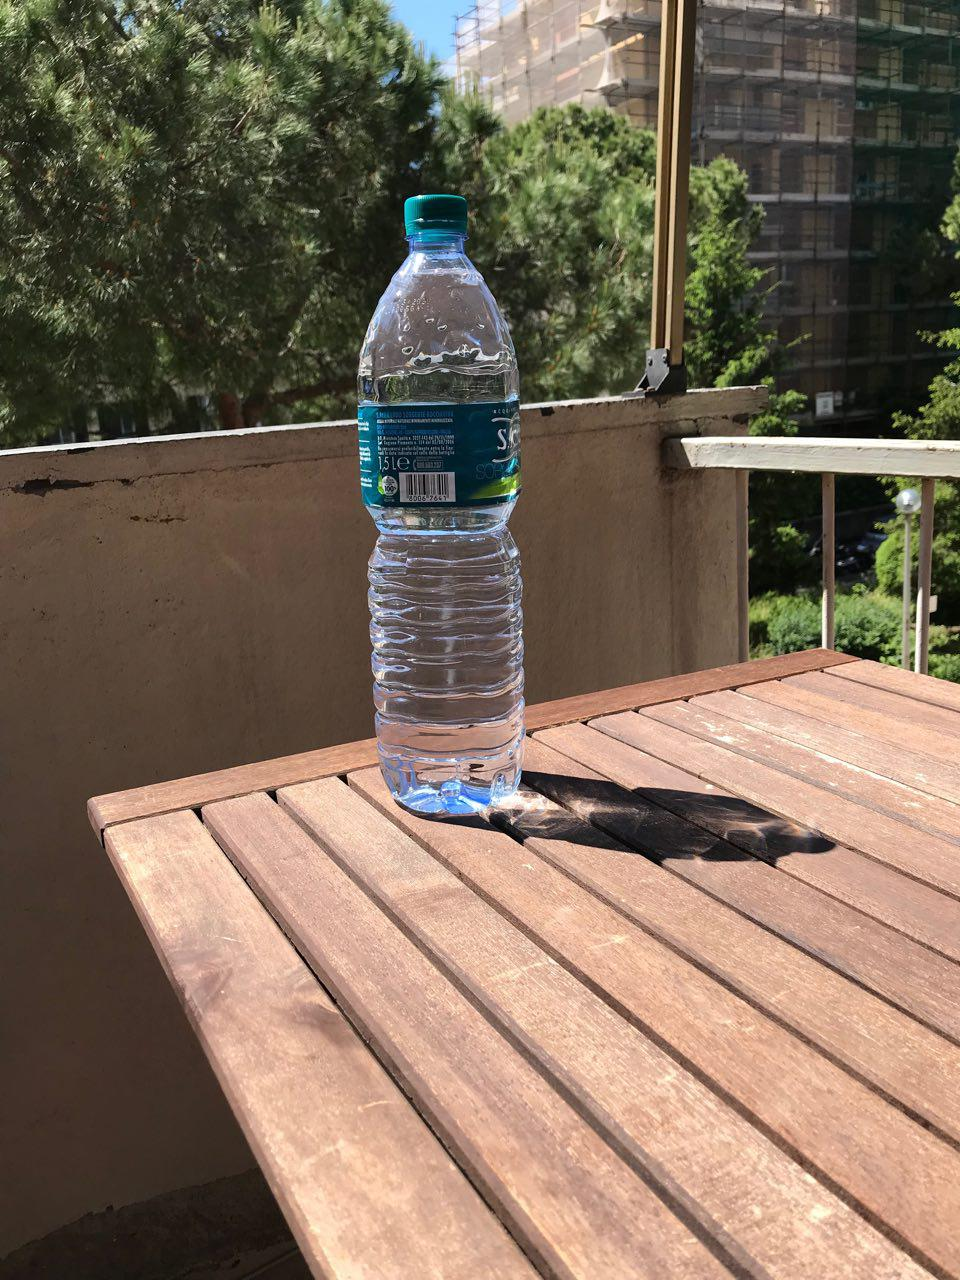san_bernardo: (355, 193, 525, 816)
